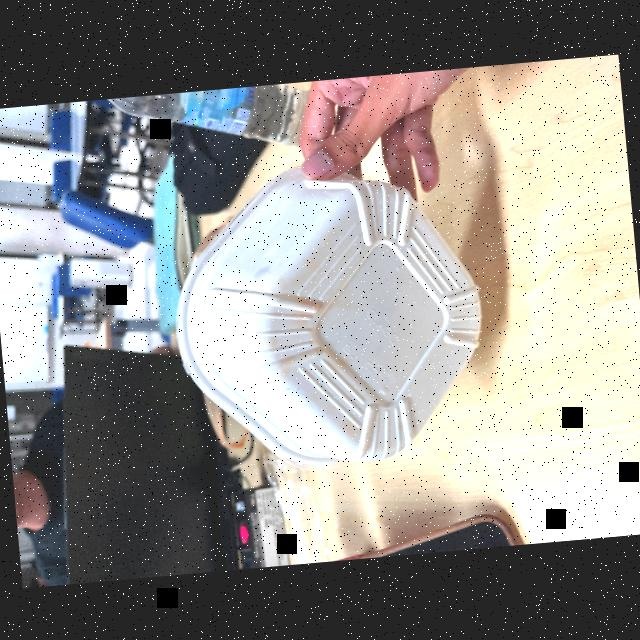plastic_box: (153, 156, 501, 483)
